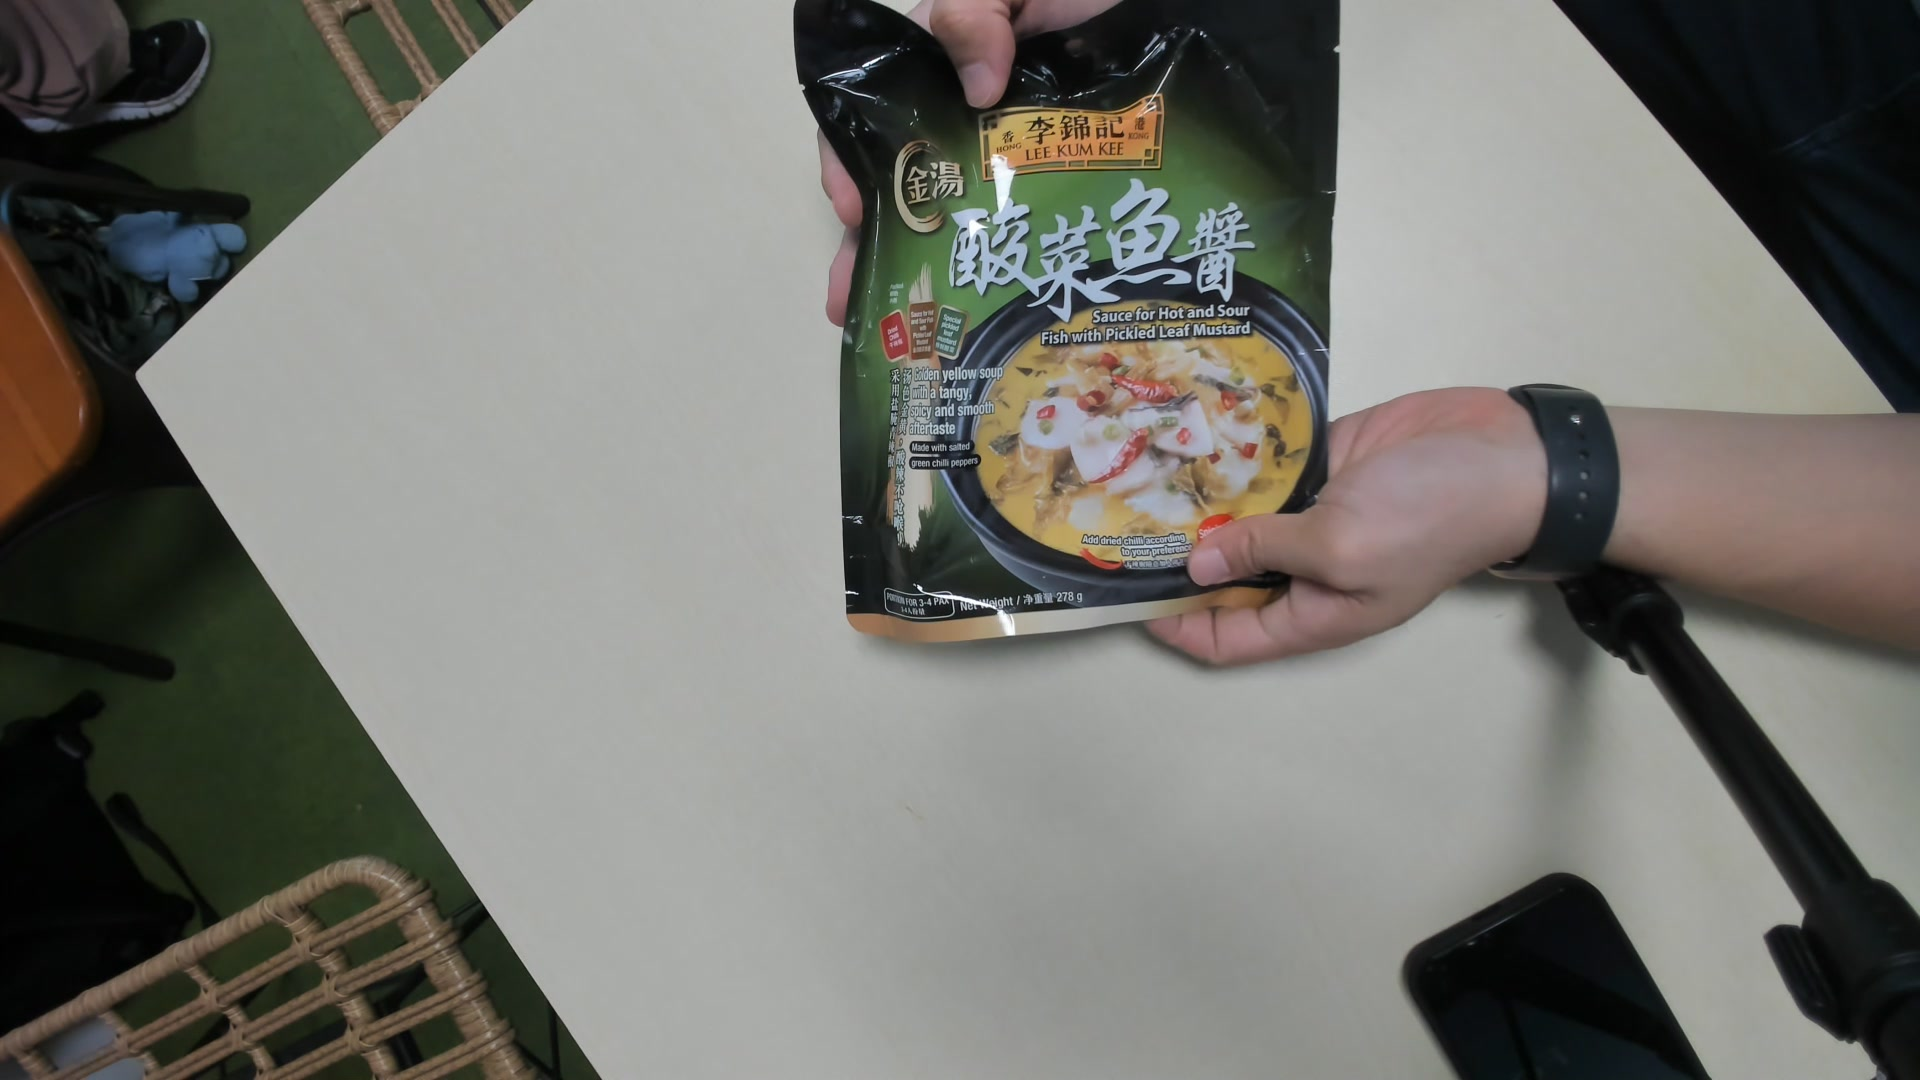OtherSauceDressing_200-299g_NonHalal_NonHealthy: (814, 7, 1328, 644)
